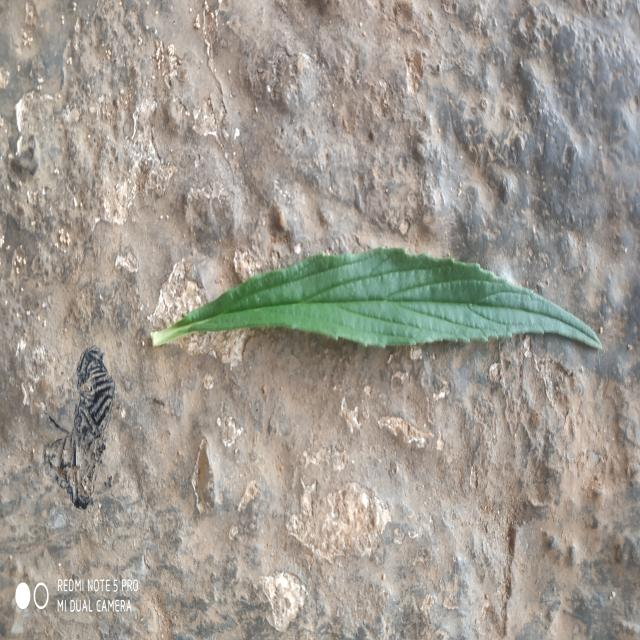thambe: (152, 247, 601, 349)
